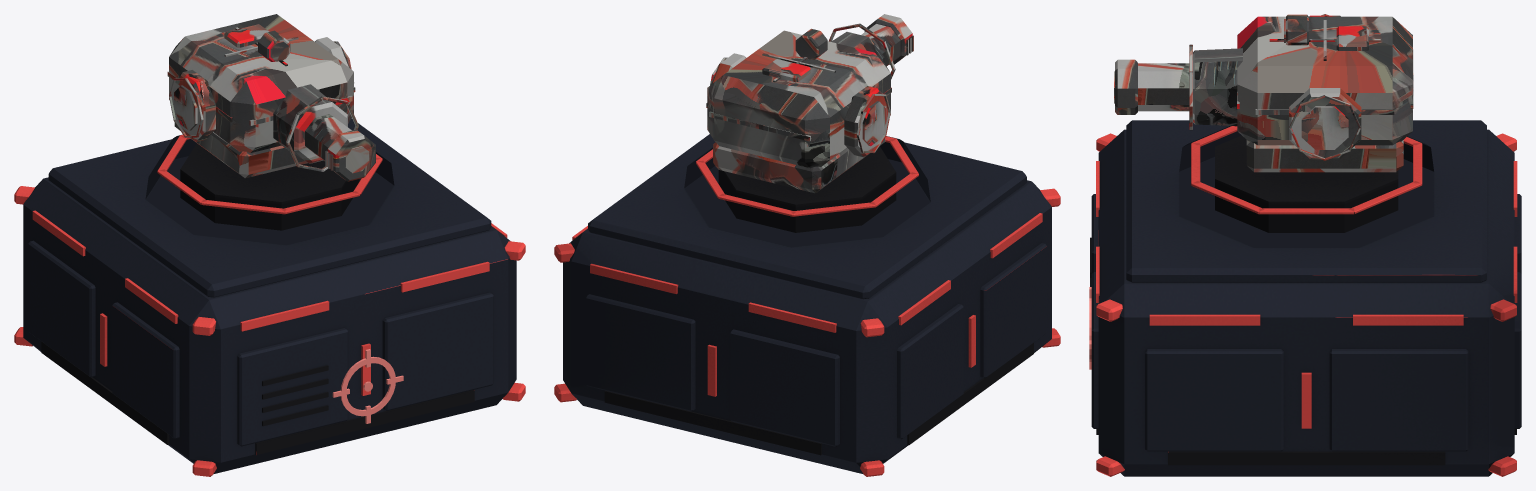
Rendered from SM_Turret.fbx.
The picture shows the model from 3 angles, left to right: view 1: azimuth 30°, elevation 25°; view 2: azimuth 150°, elevation 25°; view 3: azimuth 270°, elevation 25°; orthographic projection. The views are drawn at different scales.
Visible parts, largest first — view 1: SMN_Turret, Head, Emblem_Turret; view 2: SMN_Turret, Head; view 3: SMN_Turret, Head.
Part boxes in pixels (x1,y1,x2,y2): SMN_Turret: (14,118,525,476); Head: (167,14,375,181); Emblem_Turret: (332,349,403,423); SMN_Turret: (554,134,1060,476); Head: (706,14,913,193); SMN_Turret: (1090,120,1521,476); Head: (1114,14,1413,172).
Bounding box in the file's own units: 0.93 × 0.9123 × 0.935.
